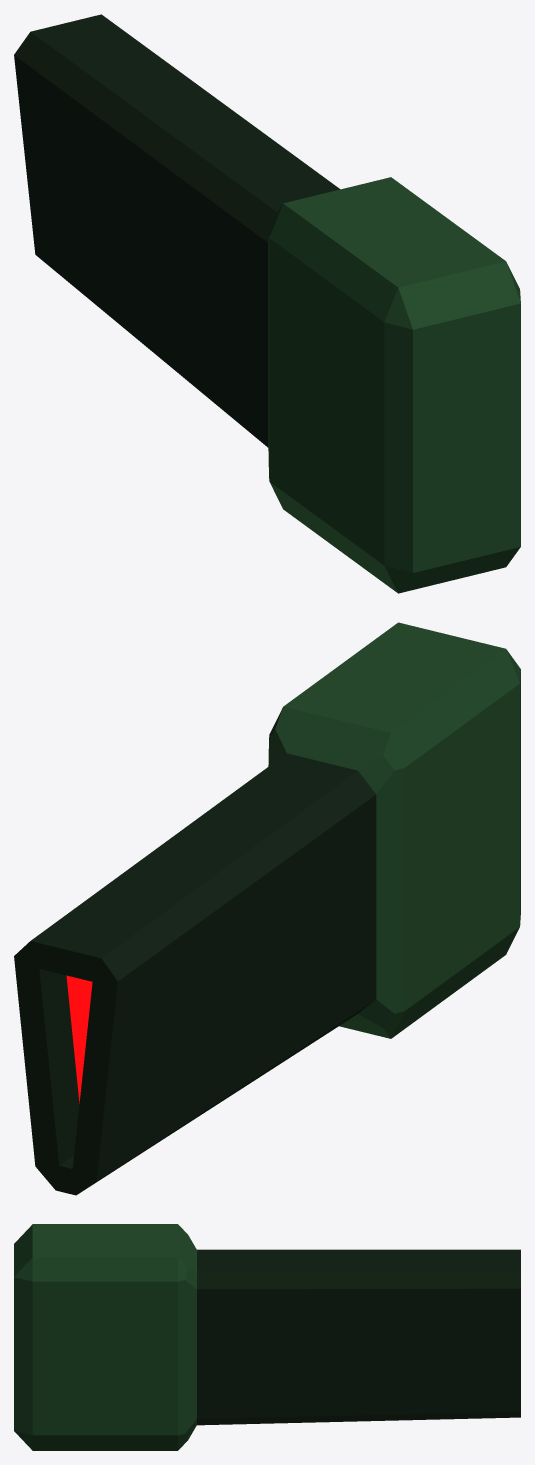
File: Tank_Canon.glb
3 renders of one model, top to bottom at view 1: azimuth 30°, elevation 25°; view 2: azimuth 150°, elevation 25°; view 3: azimuth 270°, elevation 25°, orthographic. The views are drawn at different scales.
Parts seen in each view (by area): view 1: Tank.002; view 2: Tank.002; view 3: Tank.002.
Part boxes in pixels (x1=…): Tank.002: x1=14, y1=14, x2=520, y2=593; Tank.002: x1=14, y1=622, x2=520, y2=1195; Tank.002: x1=14, y1=1224, x2=520, y2=1450.
Size of the model in its own units: 0.2219 by 0.4782 by 1.14.
